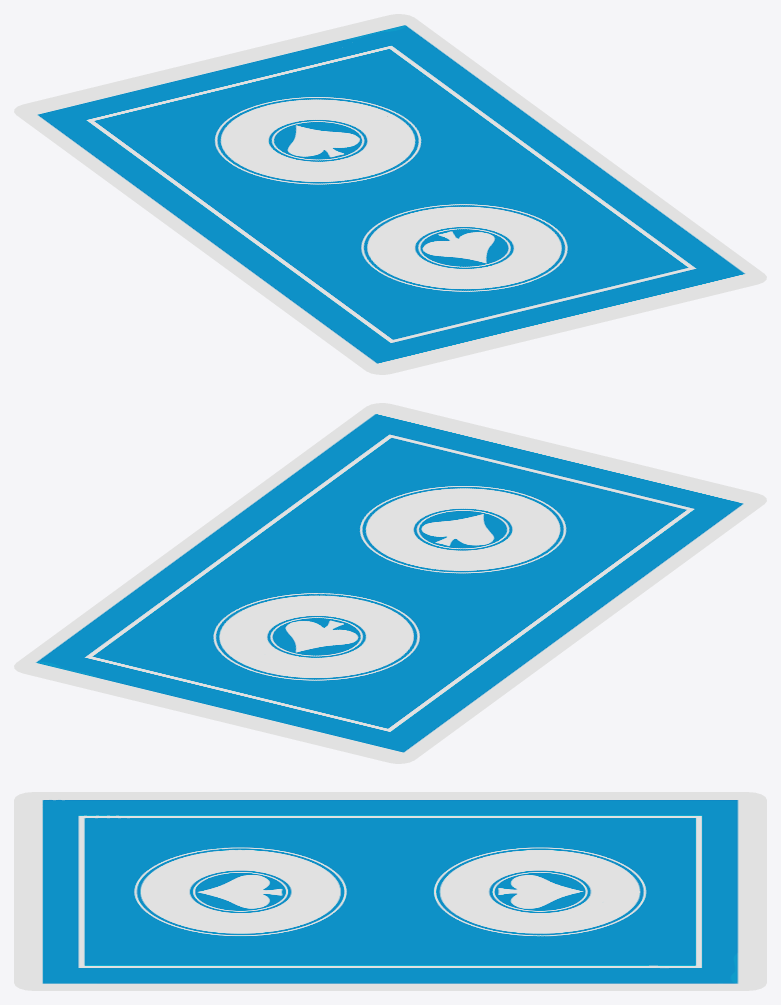
File: Card.fbx
3 views of the same model, one above another, from view 1: azimuth 30°, elevation 25°; view 2: azimuth 150°, elevation 25°; view 3: azimuth 270°, elevation 25° (orthographic). The views are drawn at different scales.
Parts seen in each view (by area): view 1: Card; view 2: Card; view 3: Card.
Boxes of the visible parts, box(x1,y1,x2,y2) form: Card: box(14, 14, 766, 374); Card: box(14, 403, 766, 763); Card: box(14, 792, 766, 990).
Size of the model in its own units: 200 by 1.19e-05 by 320.
